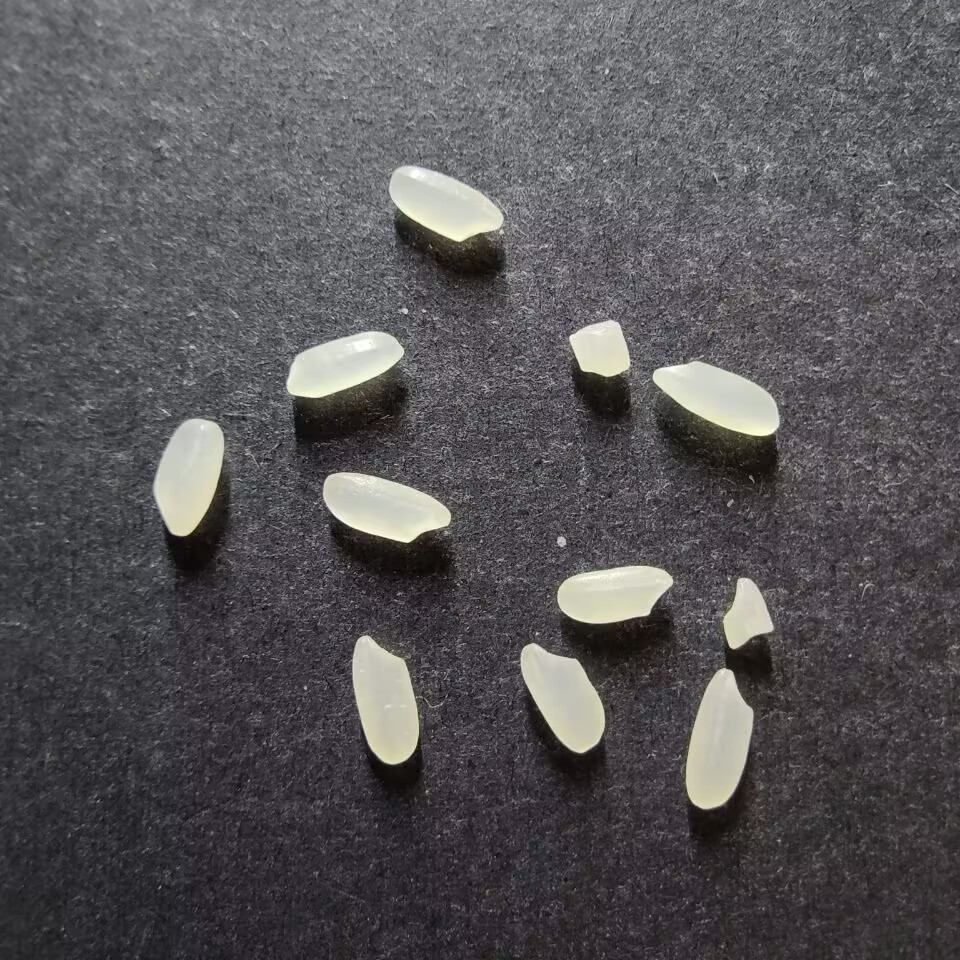broken: (722, 577, 773, 649), (568, 320, 630, 377)
rice: (651, 360, 780, 436), (519, 642, 606, 753), (685, 667, 753, 809), (321, 471, 451, 543), (388, 165, 504, 242), (351, 635, 419, 765), (152, 417, 223, 536), (285, 330, 405, 398), (556, 565, 673, 624)
